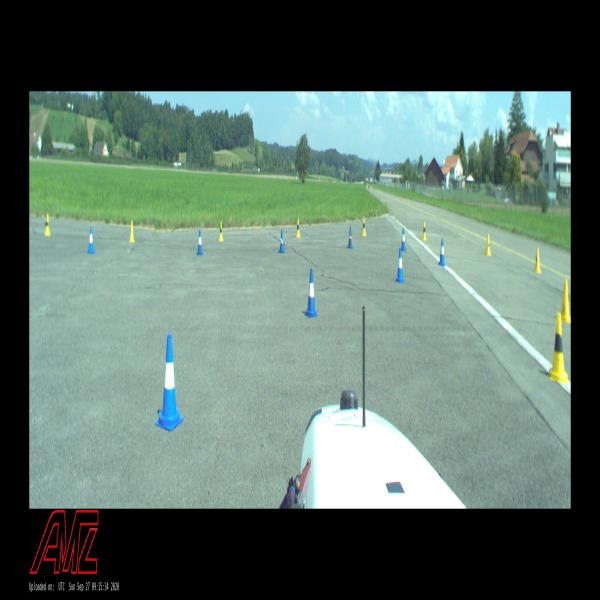blue_cone: (155, 334, 183, 432), (304, 270, 318, 318), (395, 248, 405, 282), (438, 239, 446, 266), (196, 230, 203, 254), (88, 227, 94, 253), (278, 230, 284, 253), (401, 228, 406, 250), (348, 226, 353, 248)
yellow_cone: (549, 314, 568, 384), (561, 280, 571, 323), (534, 248, 541, 272), (485, 234, 491, 256), (129, 220, 135, 242), (44, 214, 50, 235), (219, 221, 224, 241), (296, 219, 301, 238), (422, 222, 427, 240), (362, 217, 366, 236)
